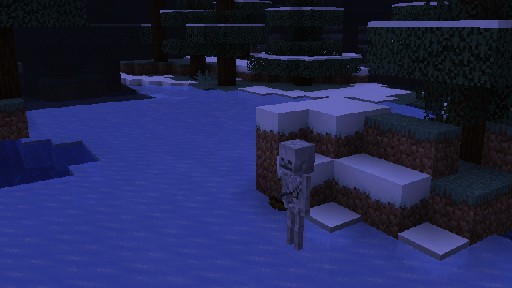skeleton: (267, 138, 315, 250)
